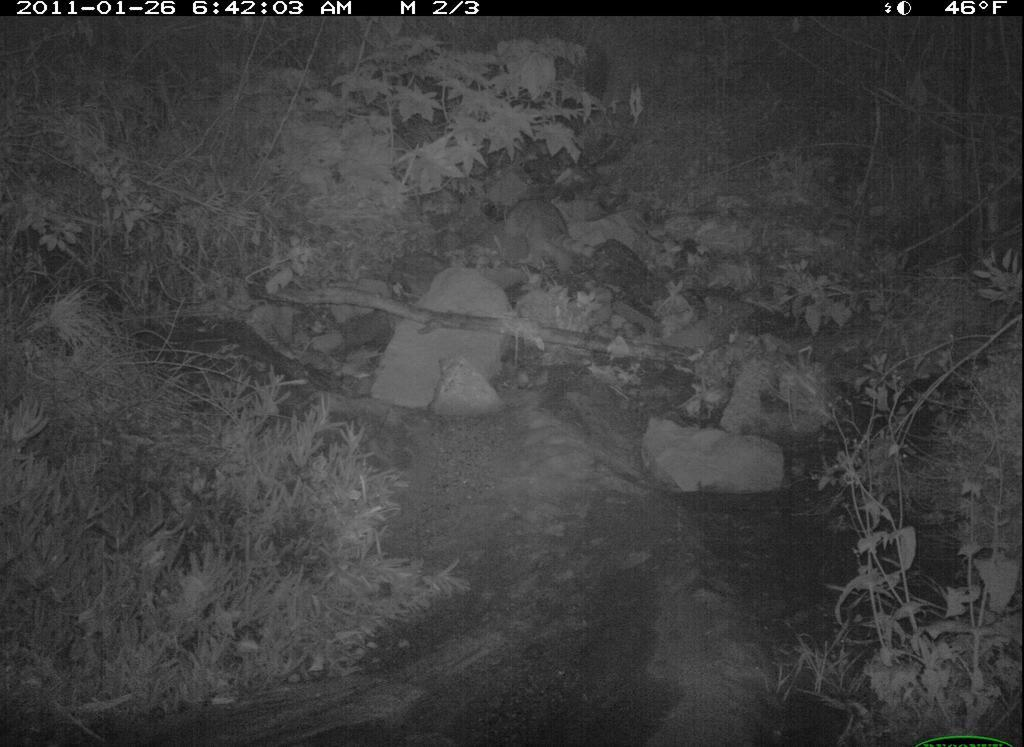raccoon: (489, 190, 611, 276)
